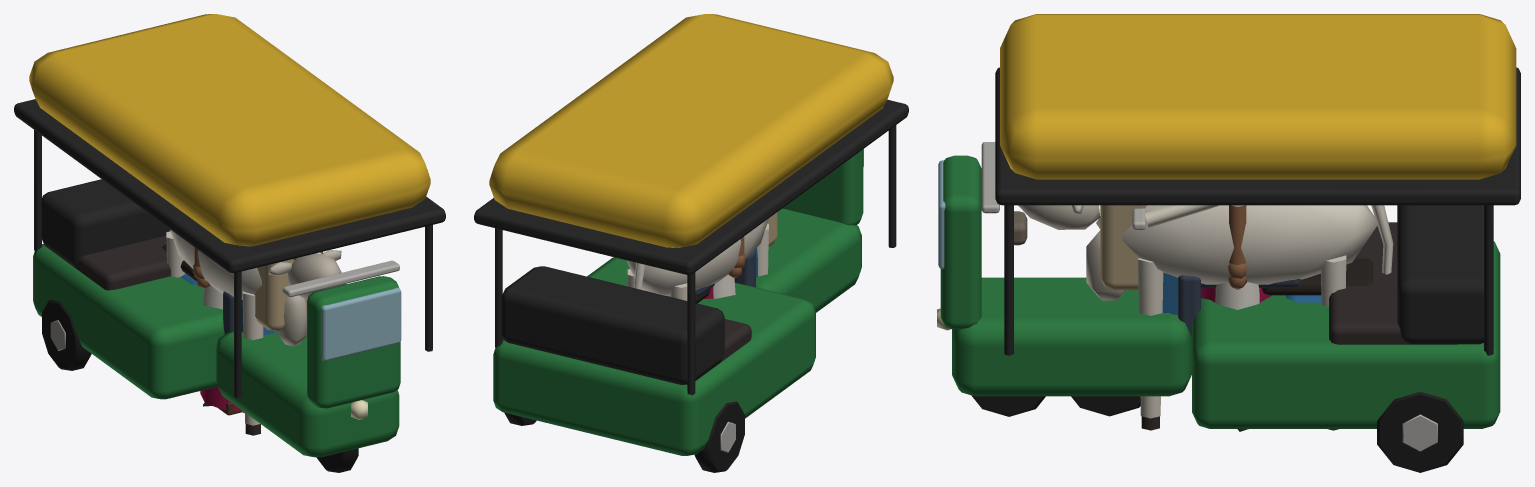
File: street.glb
3 views of the same model, side by side, from view 1: azimuth 30°, elevation 25°; view 2: azimuth 150°, elevation 25°; view 3: azimuth 270°, elevation 25° (orthographic). The views are drawn at different scales.
Parts seen in each view (by area): view 1: auto:body, cow:body, auto:wheel-l, cow:head, cow:leg-fl, scooter:body, auto:wheel-f, cow:leg-bl, person-saree:body; view 2: auto:body, cow:body, auto:wheel-l, scooter:body, cow:leg-fl; view 3: auto:body, cow:body, auto:wheel-r, scooter:body, cow:head, cow:leg-fr, person-kurta:arm-r, auto:wheel-f, scooter:wheel-f, person-kurta:body, cow:leg-br.
Part boxes in pixels (left/top/right/bottom): auto:body: left=14, top=14, right=445, bottom=457; cow:body: left=170, top=229, right=306, bottom=346; auto:wheel-l: left=42, top=300, right=91, bottom=370; cow:head: left=268, top=250, right=341, bottom=299; cow:leg-fl: left=242, top=291, right=263, bottom=435; scooter:body: left=162, top=244, right=278, bottom=335; auto:wheel-f: left=316, top=448, right=358, bottom=472; cow:leg-bl: left=166, top=231, right=185, bottom=277; person-saree:body: left=200, top=386, right=241, bottom=410; auto:body: left=474, top=14, right=908, bottom=455; cow:body: left=626, top=218, right=768, bottom=296; auto:wheel-l: left=694, top=401, right=744, bottom=472; scooter:body: left=667, top=248, right=757, bottom=303; cow:leg-fl: left=757, top=223, right=768, bottom=276; auto:body: left=937, top=14, right=1520, bottom=428; cow:body: left=1086, top=205, right=1393, bottom=300; auto:wheel-r: left=1377, top=391, right=1463, bottom=472; scooter:body: left=1132, top=205, right=1372, bottom=337; cow:head: left=1014, top=205, right=1100, bottom=245; cow:leg-fr: left=1138, top=258, right=1163, bottom=430; person-kurta:arm-r: left=1228, top=205, right=1246, bottom=278; auto:wheel-f: left=971, top=395, right=1045, bottom=416; scooter:wheel-f: left=1071, top=396, right=1140, bottom=416; person-kurta:body: left=1215, top=282, right=1259, bottom=309; cow:leg-br: left=1321, top=255, right=1346, bottom=430.
Size of the model in its own units: 1.32 by 1.74 by 2.55.
